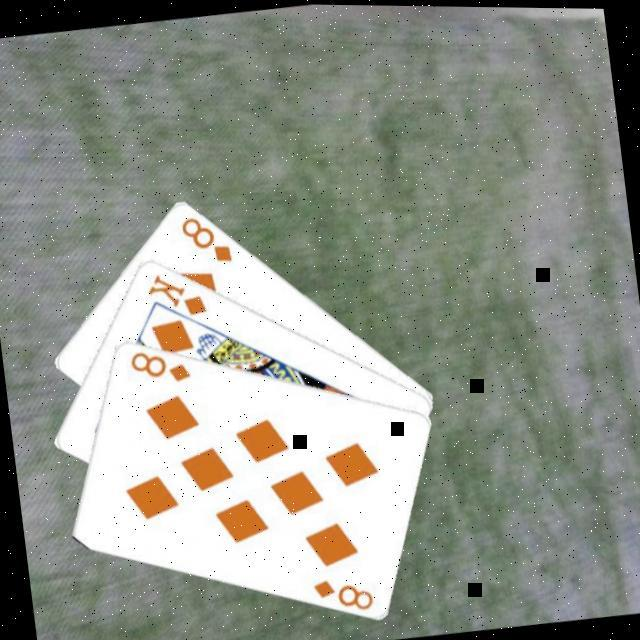8D: (175, 206, 234, 268), (307, 567, 377, 616), (125, 338, 193, 387)
KD: (140, 262, 210, 320)
